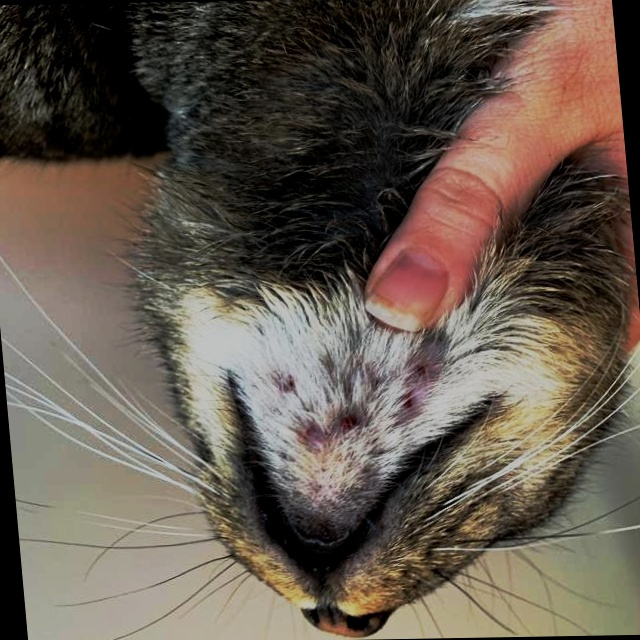acne: (264, 336, 431, 449)
